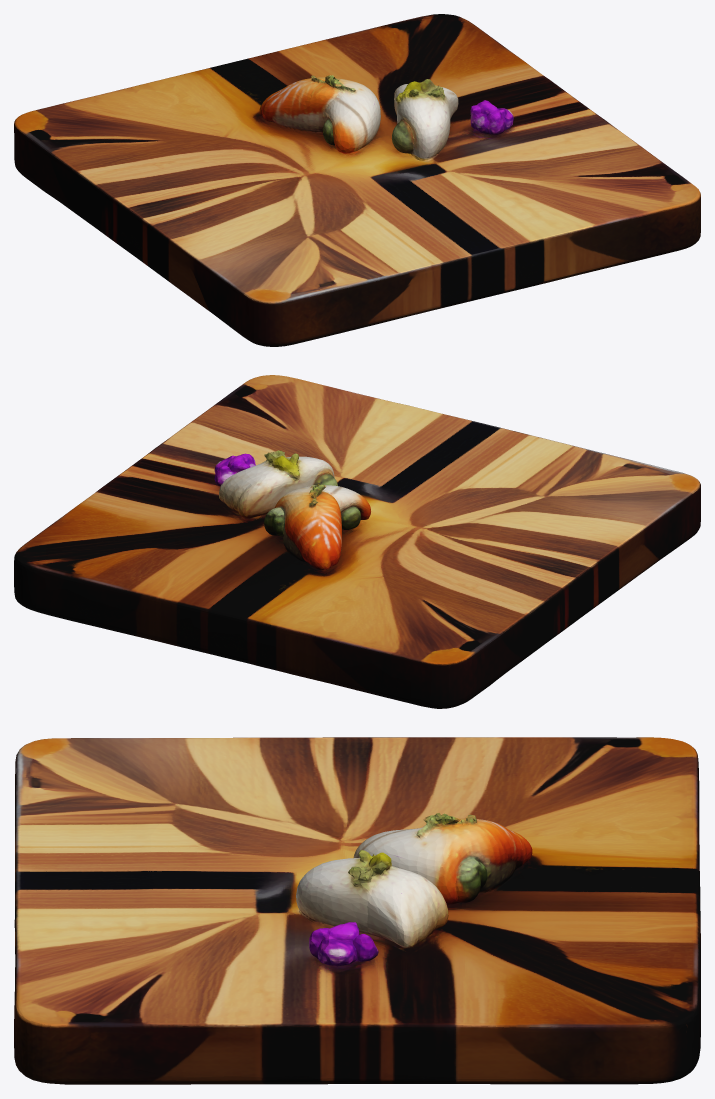
File: wooden-sushi-board-art-deco.jpeg.glb
The picture shows the model from 3 angles, top to bottom: view 1: azimuth 30°, elevation 25°; view 2: azimuth 150°, elevation 25°; view 3: azimuth 270°, elevation 25°; orthographic projection. The views are drawn at different scales.
Parts seen in each view (by area): view 1: world; view 2: world; view 3: world.
Boxes of the visible parts, box(x1,y1,x2,y2) form: world: box(14, 14, 700, 346); world: box(14, 375, 700, 708); world: box(14, 737, 700, 1084).
Bounding box in the file's own units: 0.9993 × 0.2312 × 0.999.
1 material, 1 textured.
